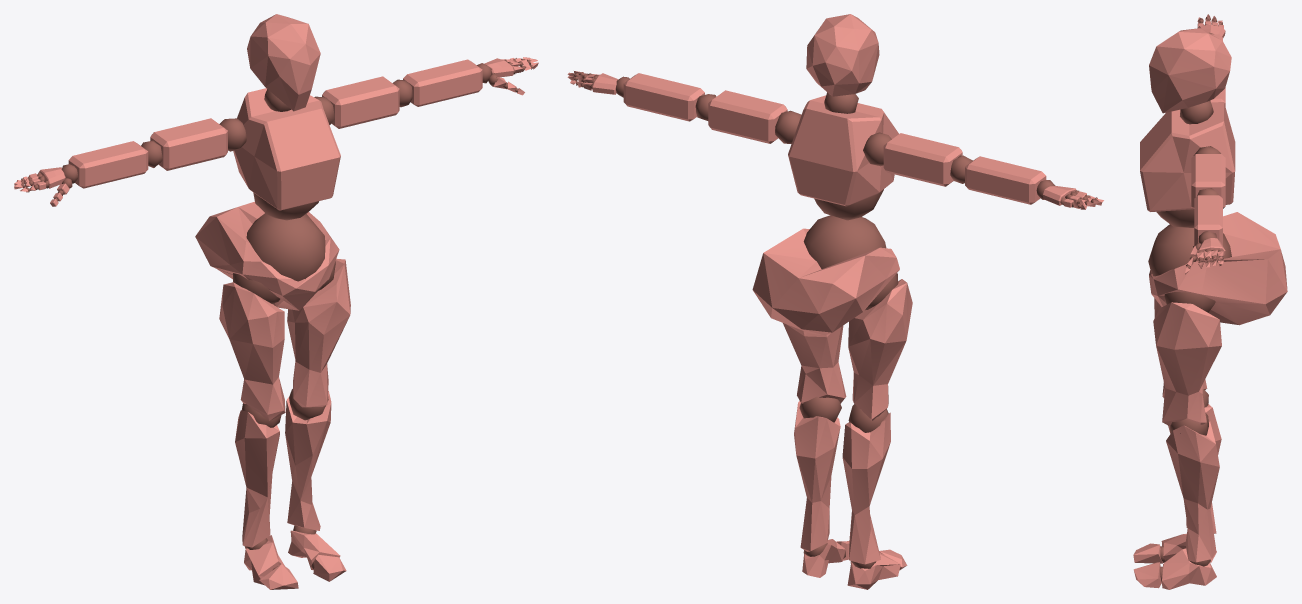
The model's file is player-v1.fbx.
3 views of the same model, side by side, from view 1: azimuth 30°, elevation 25°; view 2: azimuth 150°, elevation 25°; view 3: azimuth 270°, elevation 25° (orthographic). The views are drawn at different scales.
Visible parts, largest first — view 1: character; view 2: character; view 3: character.
Part boxes in pixels (x1=…): character: x1=14, y1=14, x2=538, y2=589; character: x1=567, y1=14, x2=1103, y2=589; character: x1=1133, y1=14, x2=1287, y2=589.
Size of the model in its own units: 162 by 162 by 41.75.
